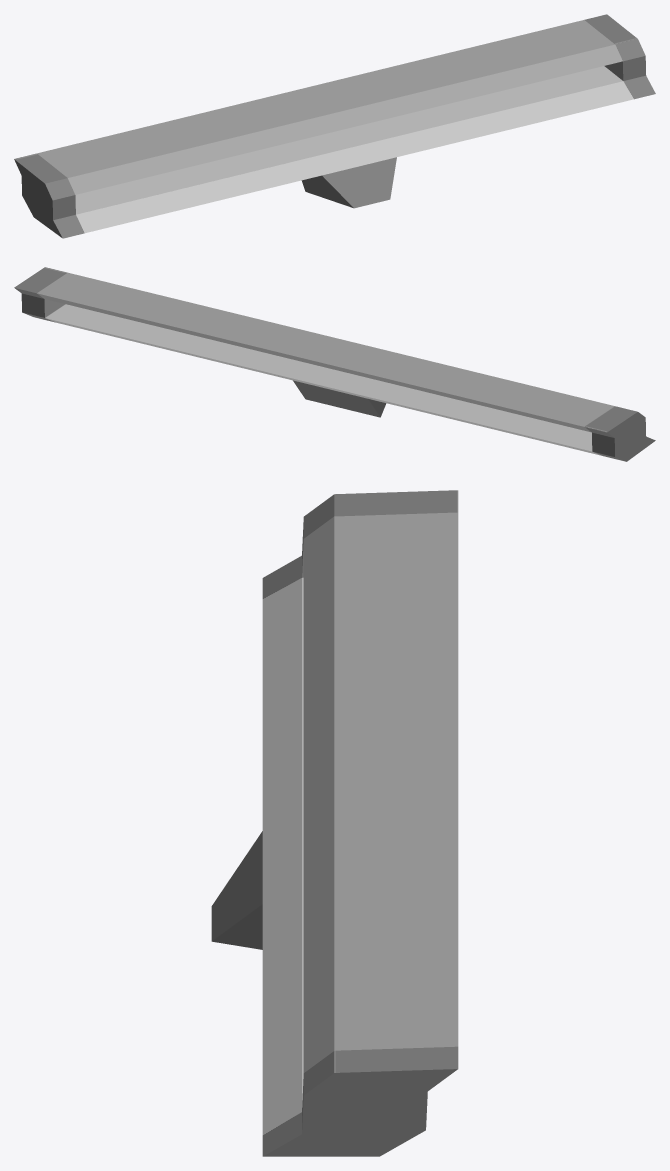
The model's file is Aleron 2.FBX.
The picture shows the model from 3 angles, top to bottom: view 1: azimuth 30°, elevation 25°; view 2: azimuth 150°, elevation 25°; view 3: azimuth 270°, elevation 25°; orthographic projection. The views are drawn at different scales.
Visible parts, largest first — view 1: Box001; view 2: Box001; view 3: Box001.
Part boxes in pixels (<box>): Box001: <box>14,14,655,238</box>; Box001: <box>14,267,655,461</box>; Box001: <box>211,490,458,1156</box>.
Bounding box in the file's own units: 82.05 × 9.55 × 14.79.
1 material, 1 textured.
